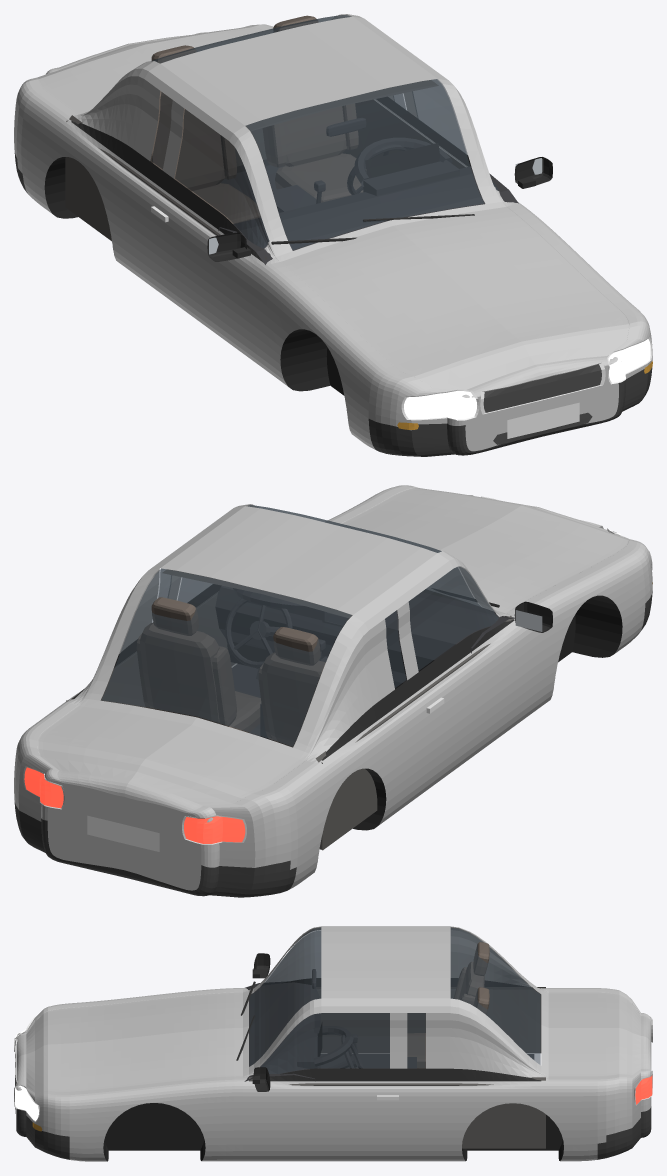
Rendered from car_sparrow.fbx.
3 renders of one model, top to bottom at view 1: azimuth 30°, elevation 25°; view 2: azimuth 150°, elevation 25°; view 3: azimuth 270°, elevation 25°, orthographic. The views are drawn at different scales.
Visible parts, largest first — view 1: sparrow__hood, sparrow__glass, sparrow__roof, sparrow__seats, sparrow__interior, sparrow__pillars, sparrow__doorR, sparrow__fenderFR, sparrow__quarterR, sparrow__trunk, sparrow__cabin, sparrow__bumperF (+10 smaller); view 2: sparrow__glass, sparrow__trunk, sparrow__hood, sparrow__roof, sparrow__seats, sparrow__pillars, sparrow__quarterR, sparrow__doorR, sparrow__interior, sparrow__rearPanel, sparrow__fenderFR, sparrow__cabin (+7 smaller); view 3: sparrow__hood, sparrow__glass, sparrow__doorL, sparrow__quarterL, sparrow__pillars, sparrow__roof, sparrow__trunk, sparrow__fenderFL, sparrow__cabin, sparrow__interior, sparrow__wells, sparrow__seals (+8 smaller).
Boxes of the visible parts, bbox=[...] form: sparrow__hood: bbox=[267, 204, 640, 397]; sparrow__glass: bbox=[151, 15, 498, 249]; sparrow__roof: bbox=[149, 16, 448, 133]; sparrow__seats: bbox=[150, 15, 366, 223]; sparrow__interior: bbox=[218, 118, 518, 264]; sparrow__pillars: bbox=[77, 14, 504, 258]; sparrow__doorR: bbox=[134, 177, 259, 361]; sparrow__fenderFR: bbox=[247, 260, 447, 449]; sparrow__quarterR: bbox=[14, 81, 146, 278]; sparrow__trunk: bbox=[26, 24, 518, 265]; sparrow__cabin: bbox=[65, 80, 466, 259]; sparrow__bumperF: bbox=[368, 367, 652, 456]; sparrow__glass: bbox=[102, 505, 498, 746]; sparrow__trunk: bbox=[26, 588, 514, 817]; sparrow__hood: bbox=[326, 485, 640, 615]; sparrow__roof: bbox=[149, 506, 448, 622]; sparrow__seats: bbox=[136, 597, 325, 747]; sparrow__pillars: bbox=[75, 504, 504, 757]; sparrow__quarterR: bbox=[212, 705, 410, 890]; sparrow__doorR: bbox=[398, 622, 524, 806]; sparrow__interior: bbox=[215, 586, 514, 740]; sparrow__rearPanel: bbox=[41, 771, 219, 890]; sparrow__fenderFR: bbox=[512, 542, 652, 723]; sparrow__cabin: bbox=[66, 569, 513, 850]; sparrow__hood: bbox=[16, 988, 242, 1097]; sparrow__glass: bbox=[249, 928, 540, 1073]; sparrow__doorL: bbox=[254, 1081, 425, 1161]; sparrow__quarterL: bbox=[426, 1073, 640, 1161]; sparrow__pillars: bbox=[249, 926, 541, 1077]; sparrow__roof: bbox=[321, 926, 450, 1006]; sparrow__trunk: bbox=[243, 988, 651, 1081]; sparrow__fenderFL: bbox=[26, 1081, 253, 1161]; sparrow__cabin: bbox=[249, 987, 545, 1148]; sparrow__interior: bbox=[244, 969, 534, 1081]; sparrow__wells: bbox=[103, 1103, 563, 1161]; sparrow__seals: bbox=[249, 978, 541, 1081].
Size of the model in its own units: 2.04 by 1.18 by 4.37.
